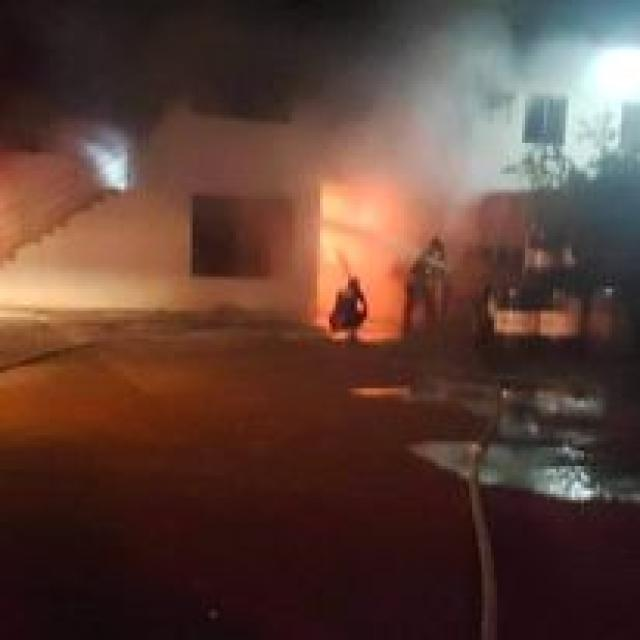Fire: (311, 173, 404, 284)
